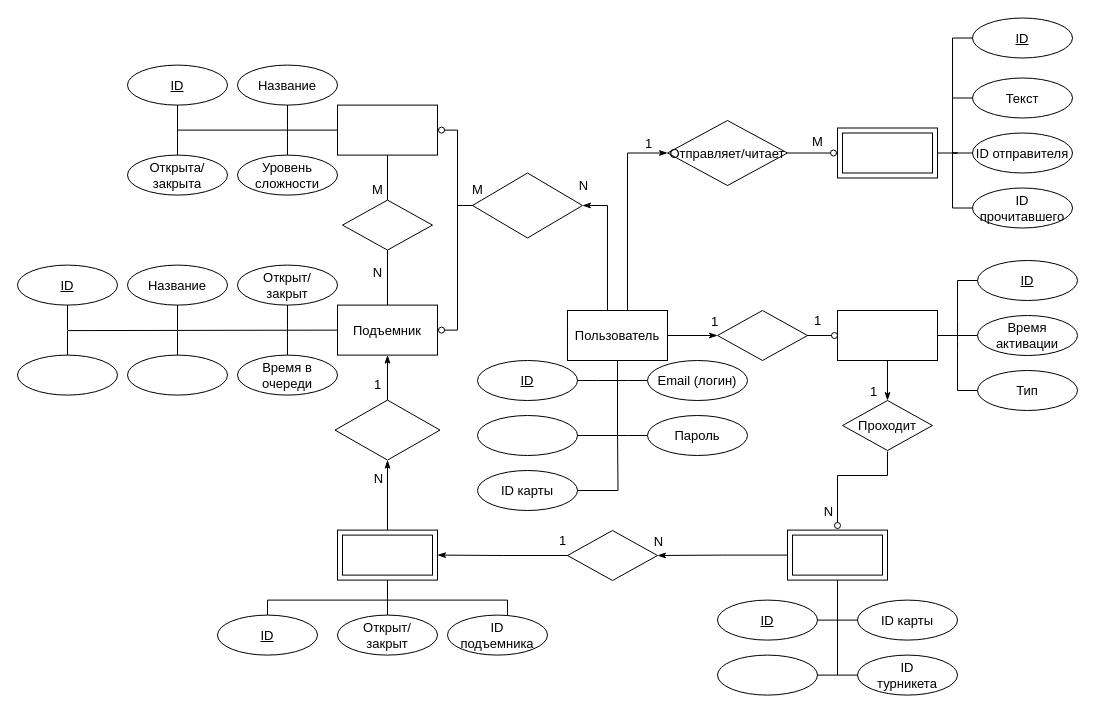
The diagram is 1095 pixels wide and 714 high, and some of its shapes have lost their labels. The centre of each missing label's shape, as x and y in pixels:
"Ведет к" belongs at (387,224).
"Владеет" belongs at (762,335).
"Время" belongs at (767,674).
"Время подъема" belongs at (177,374).
"Количество мест" belongs at (67,374).
"на" belongs at (612,555).
"Права" belongs at (527,435).
"Принадлежит" belongs at (387,429).
"Проездная карта" belongs at (887,335).
"Просматривает" belongs at (527,205).
"Сообщение" belongs at (887,152).
"Считывание" belongs at (837,554).
"Трасса" belongs at (387,129).
"Турникет" belongs at (387,554).
